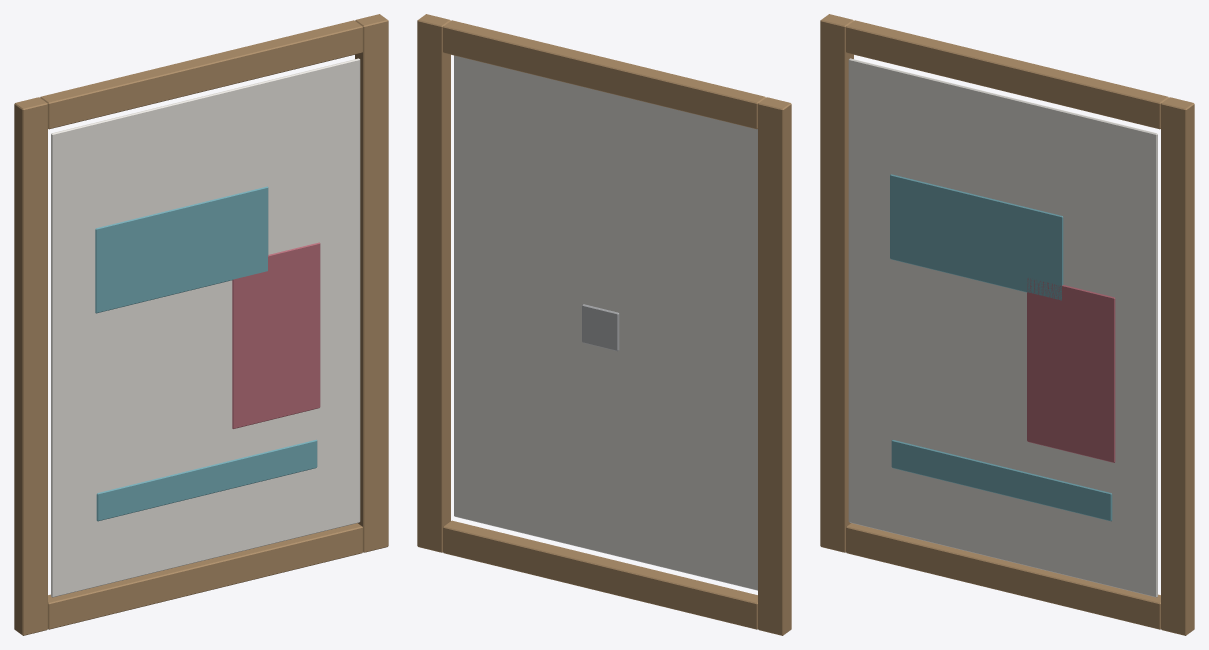
File: prop_poster_frame_sm_01.glb
The picture shows the model from 3 angles, left to right: view 1: azimuth 30°, elevation 25°; view 2: azimuth 150°, elevation 25°; view 3: azimuth 330°, elevation 25°; orthographic projection.
Parts seen in each view (by area): view 1: prop_poster_frame_sm_01; view 2: prop_poster_frame_sm_01; view 3: prop_poster_frame_sm_01.
Part boxes in pixels (box(x1,y1,x2,y2)): prop_poster_frame_sm_01: box(14, 14, 388, 635); prop_poster_frame_sm_01: box(417, 14, 791, 635); prop_poster_frame_sm_01: box(820, 14, 1194, 635).
Bounding box in the file's own units: 0.4 × 0.55 × 0.02.
